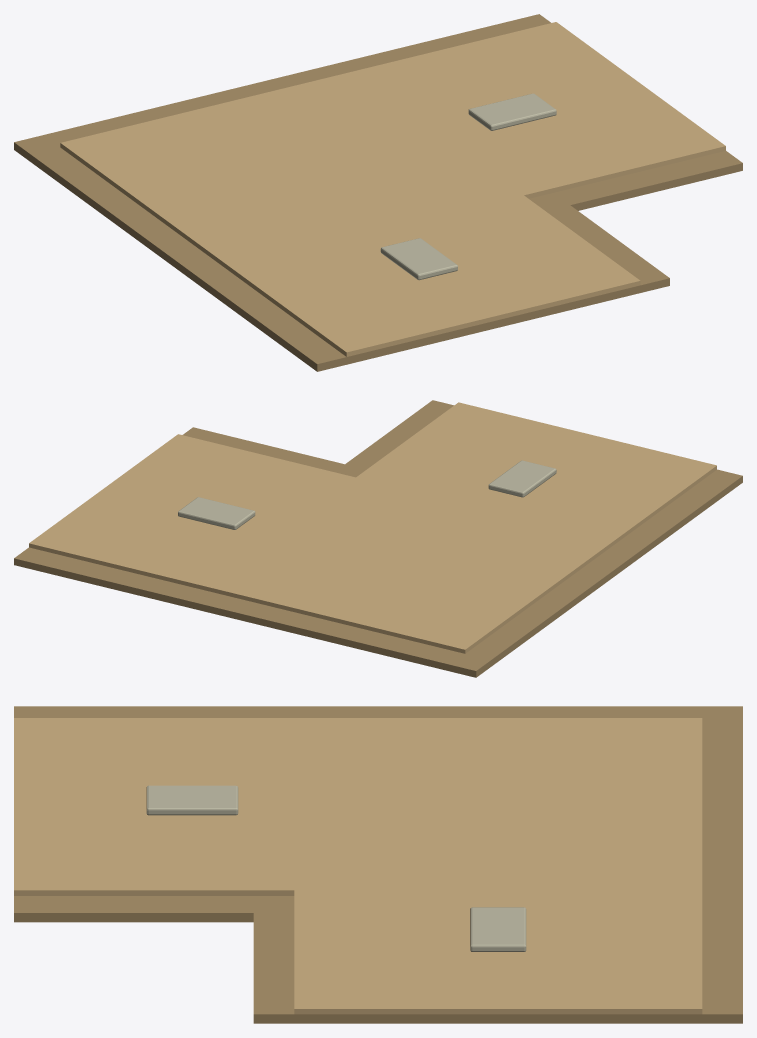
The model's file is path_corner.glb.
The picture shows the model from 3 angles, top to bottom: view 1: azimuth 30°, elevation 25°; view 2: azimuth 150°, elevation 25°; view 3: azimuth 270°, elevation 25°; orthographic projection. The views are drawn at different scales.
Parts seen in each view (by area): view 1: path_corner · path, path_corner · path_edge, path_corner · stone_light; view 2: path_corner · path, path_corner · path_edge, path_corner · stone_light; view 3: path_corner · path, path_corner · path_edge, path_corner · stone_light.
Part boxes in pixels (<box>): path_corner · path: <box>60,22,725,356</box>; path_corner · path_edge: <box>14,14,742,371</box>; path_corner · stone_light: <box>380,93,556,280</box>; path_corner · path: <box>29,402,716,653</box>; path_corner · path_edge: <box>14,400,742,677</box>; path_corner · stone_light: <box>178,460,556,529</box>; path_corner · path: <box>14,718,702,1014</box>; path_corner · path_edge: <box>14,706,742,1023</box>; path_corner · stone_light: <box>146,785,526,951</box>.
Bounding box in the file's own units: 0.715 × 0.024 × 0.715.
